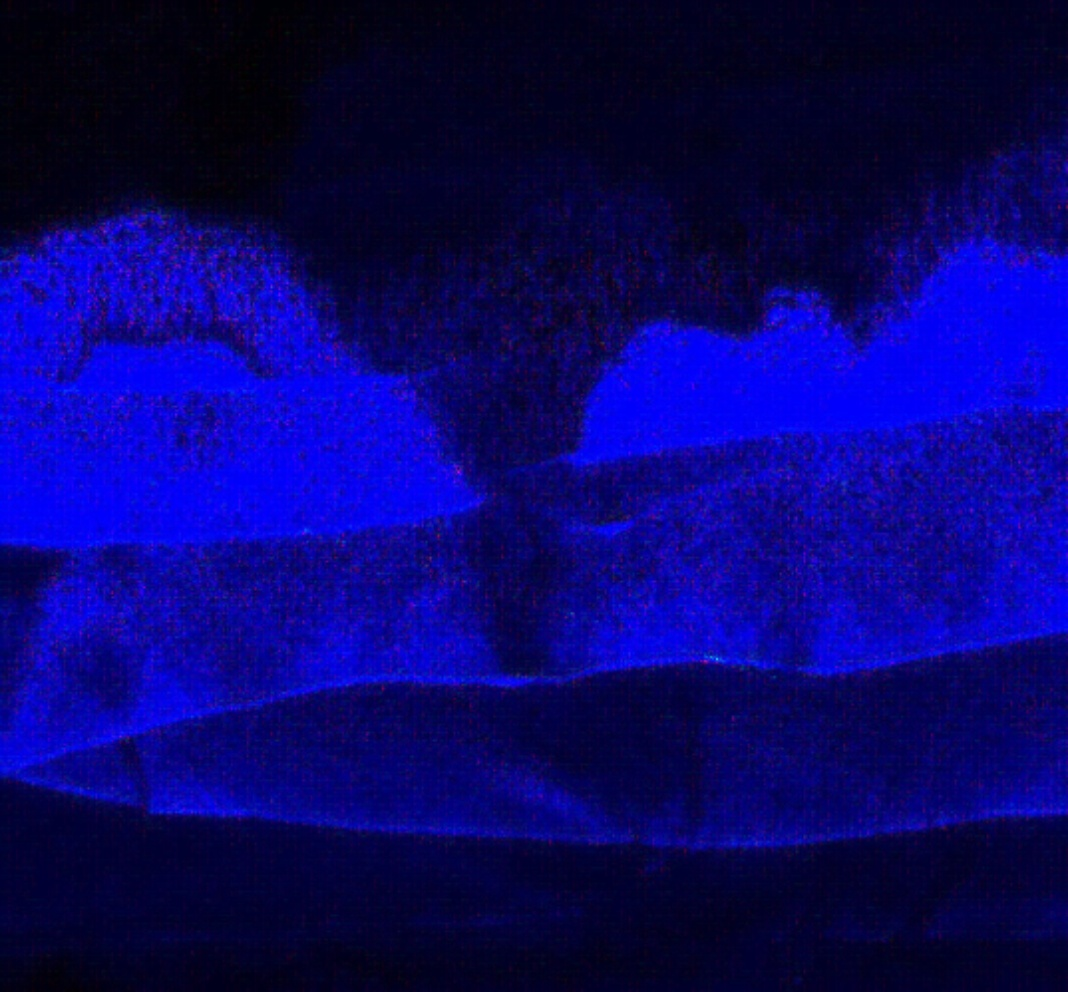rip_current: (264, 79, 666, 617)
